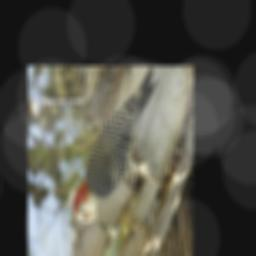Woodpecker: (70, 66, 159, 230)
